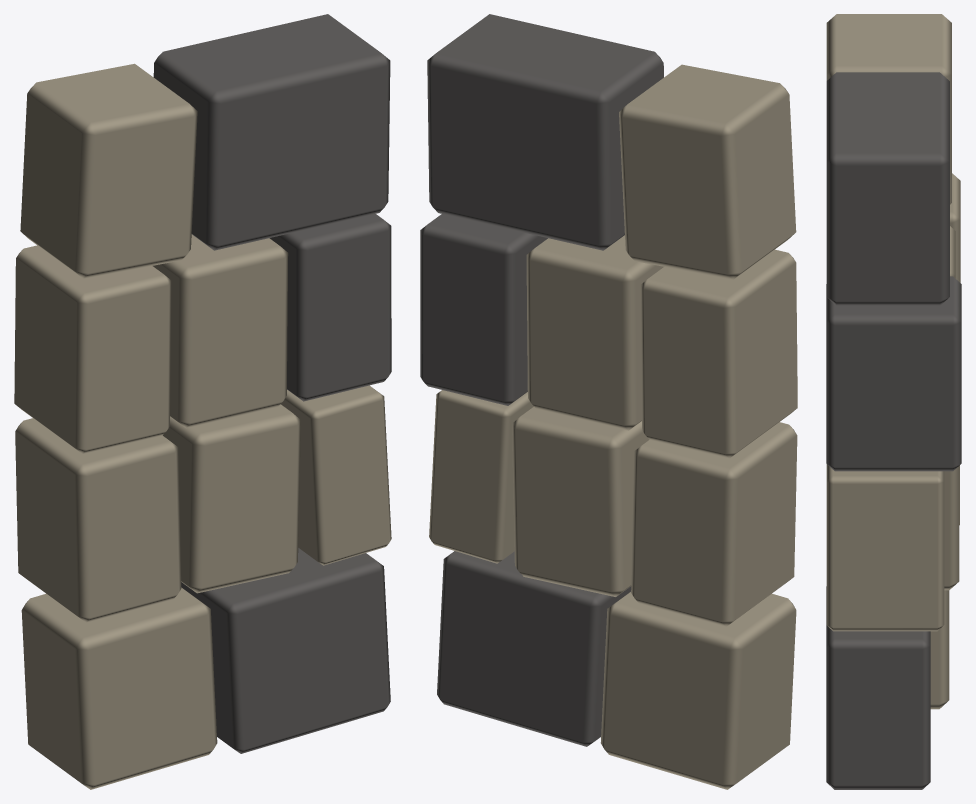
Rendered from stone-halls-cliff-face.fd1da857.glb.
The picture shows the model from 3 angles, left to right: view 1: azimuth 30°, elevation 25°; view 2: azimuth 150°, elevation 25°; view 3: azimuth 270°, elevation 25°; orthographic projection. The views are drawn at different scales.
Visible parts, largest first — view 1: body; view 2: body; view 3: body.
Part boxes in pixels (<box>): body: <box>14,14,391,789</box>; body: <box>420,14,797,789</box>; body: <box>826,14,961,789</box>.
Bounding box in the file's own units: 0.9796 × 1.98 × 0.375.
